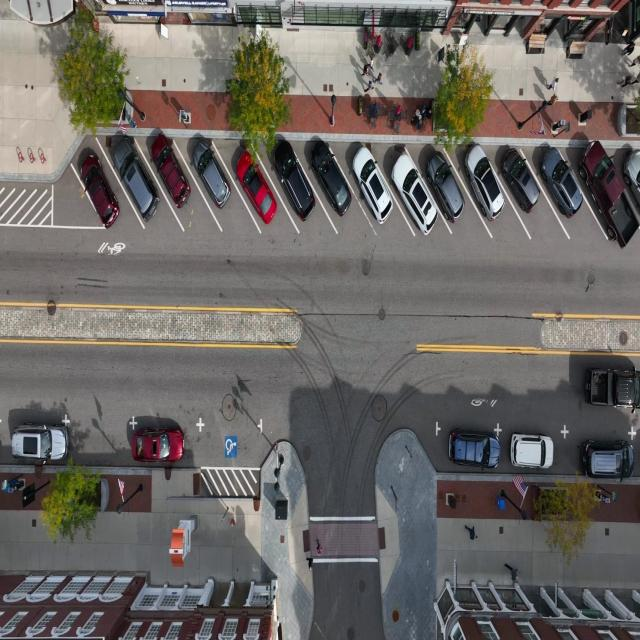Car: (112, 136, 160, 220), (392, 155, 438, 235), (272, 140, 315, 222), (309, 139, 352, 218), (235, 150, 278, 227), (464, 141, 504, 221), (540, 147, 584, 219), (352, 147, 393, 224), (79, 152, 119, 230), (150, 133, 190, 209), (192, 138, 232, 210), (425, 150, 465, 222), (500, 148, 540, 216), (581, 439, 635, 484), (12, 424, 70, 465), (448, 428, 500, 472), (131, 428, 185, 465), (509, 434, 553, 472), (624, 149, 640, 210)
Truck: (579, 140, 639, 248), (585, 367, 640, 415)
